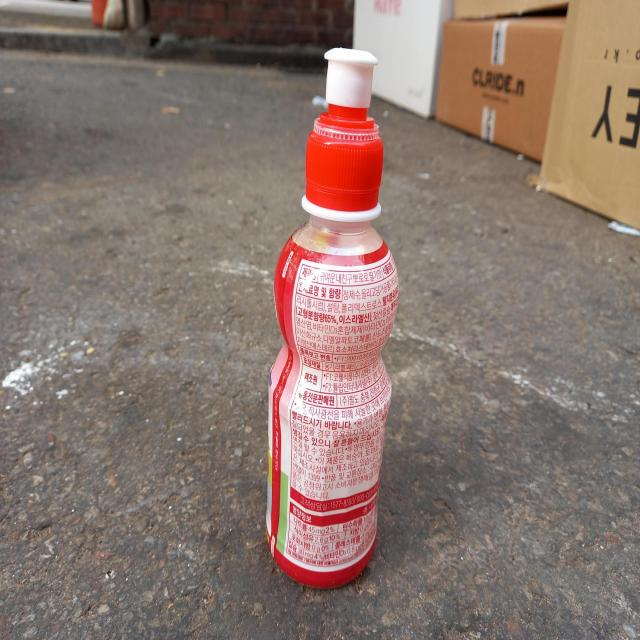plastic: (266, 48, 399, 589)
